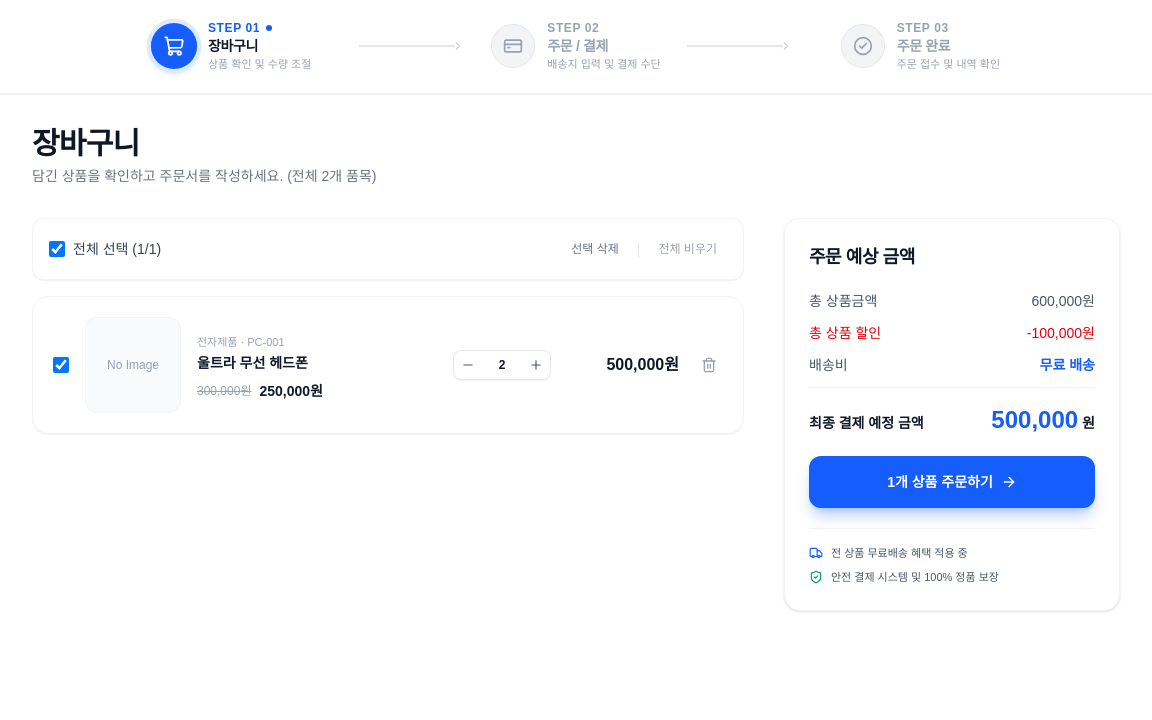
Test case: CartView Component › 수량 증가 버튼을 누르면 수량이 3으로 증가하고 소계가 750,000원으로 갱신된다
Click the button named "수량 증가" at (536, 364), box [522, 350, 550, 378]
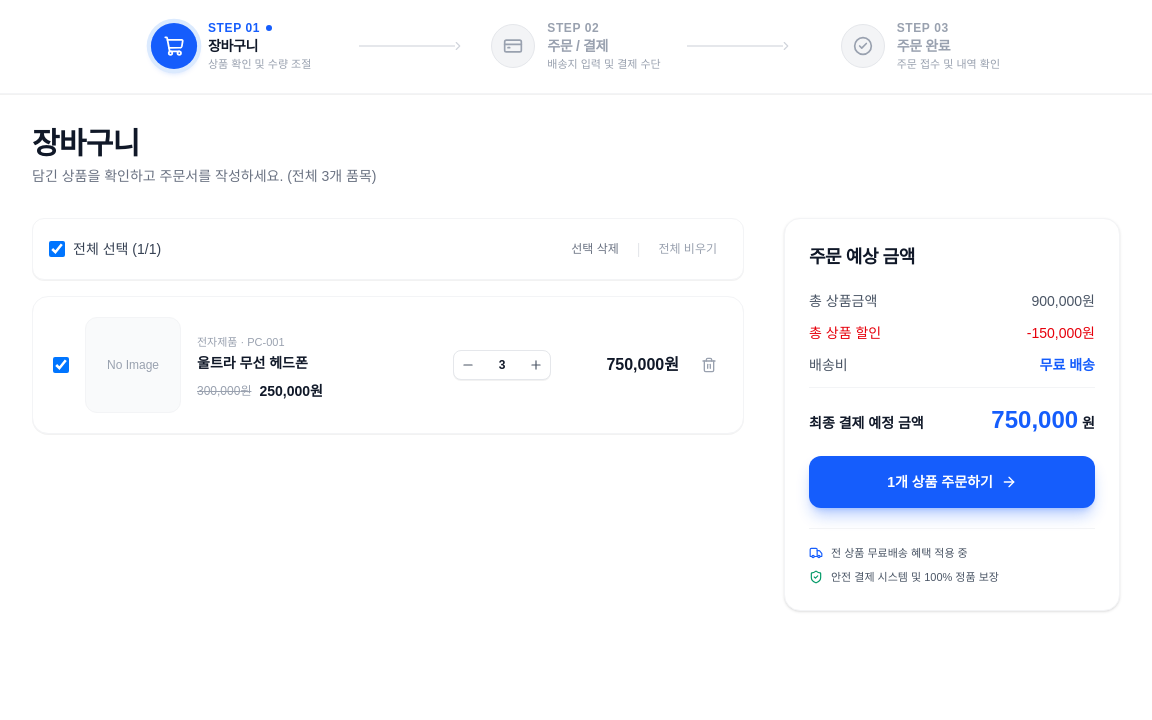
Check: the text "3" is shown, box [499, 358, 505, 372]
